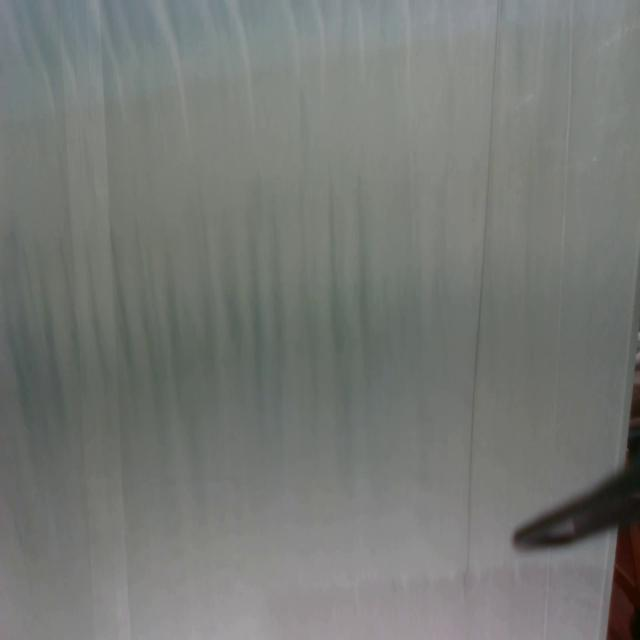crease: (68, 0, 127, 640), (462, 0, 500, 594), (550, 2, 575, 496), (542, 548, 552, 637)
